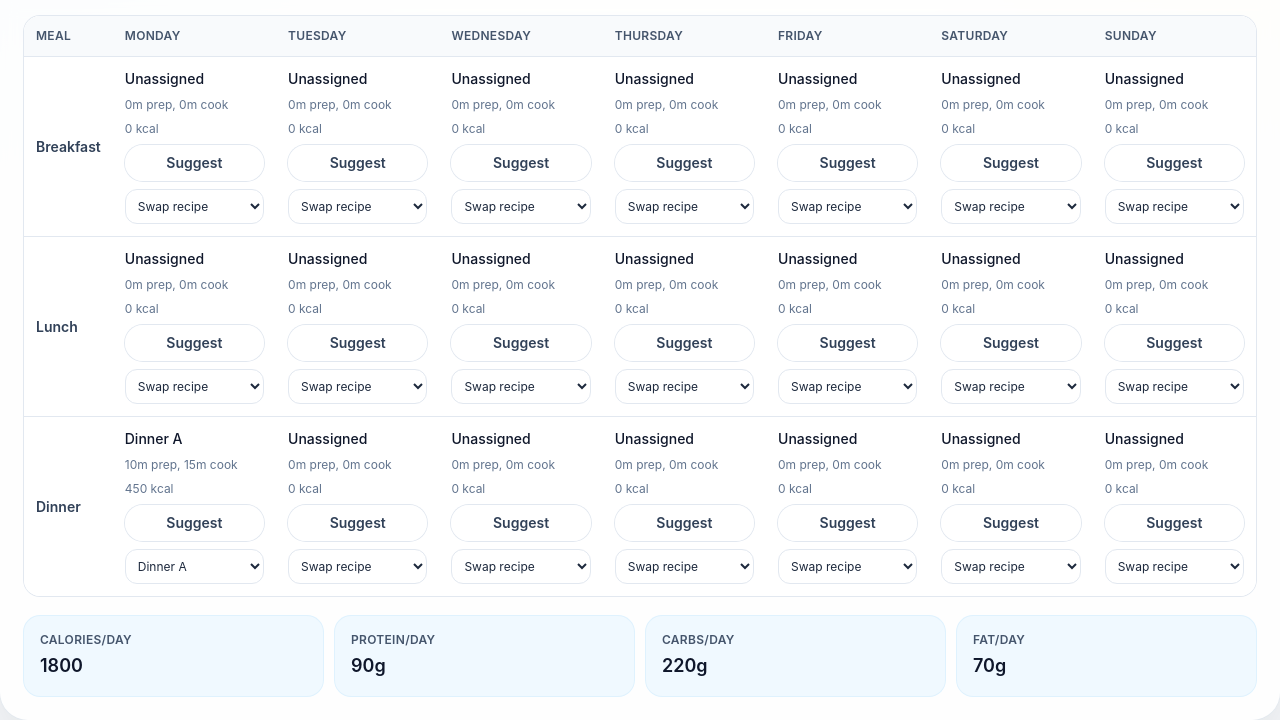
MealPlansPage › loads swap suggestions and swaps a slot
(page scrolled)
Click the button with aria-label "Monday dinner suggest".
click(194, 523)  # box [125,505,264,541]
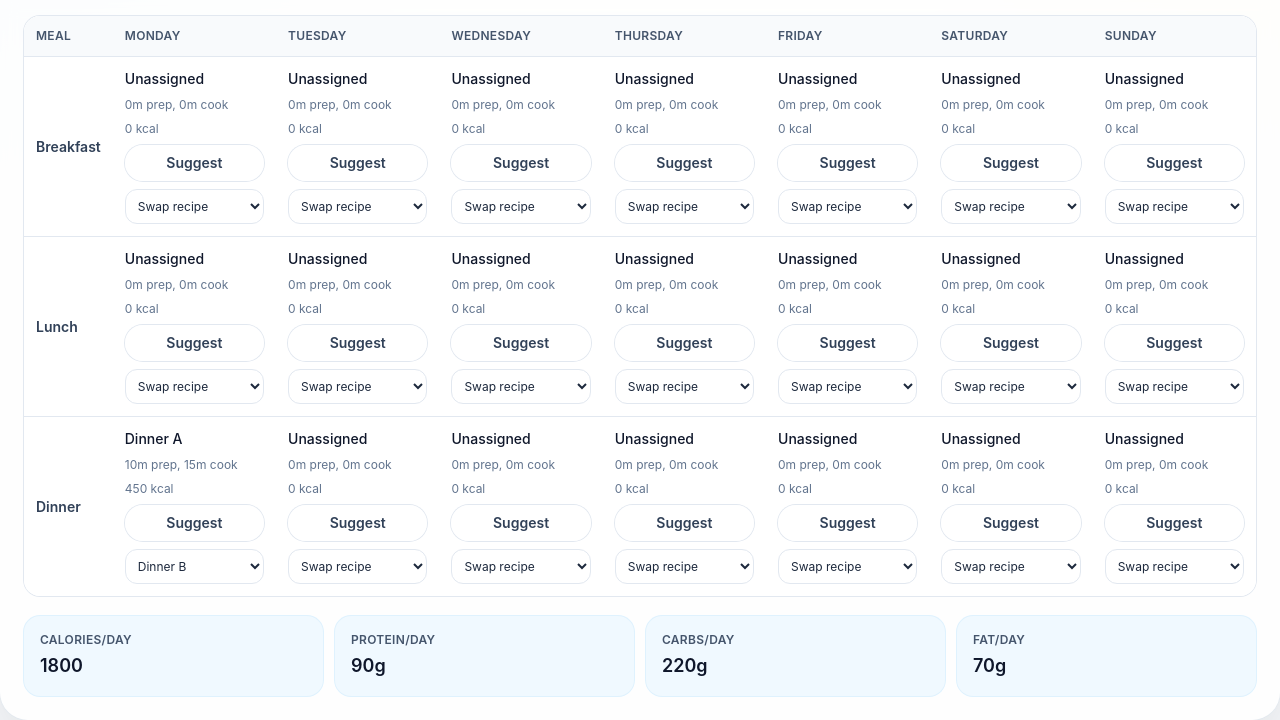
Select "Dinner B" in the dropdown named "Monday dinner swap" at [194, 566], box [125,549,264,584]
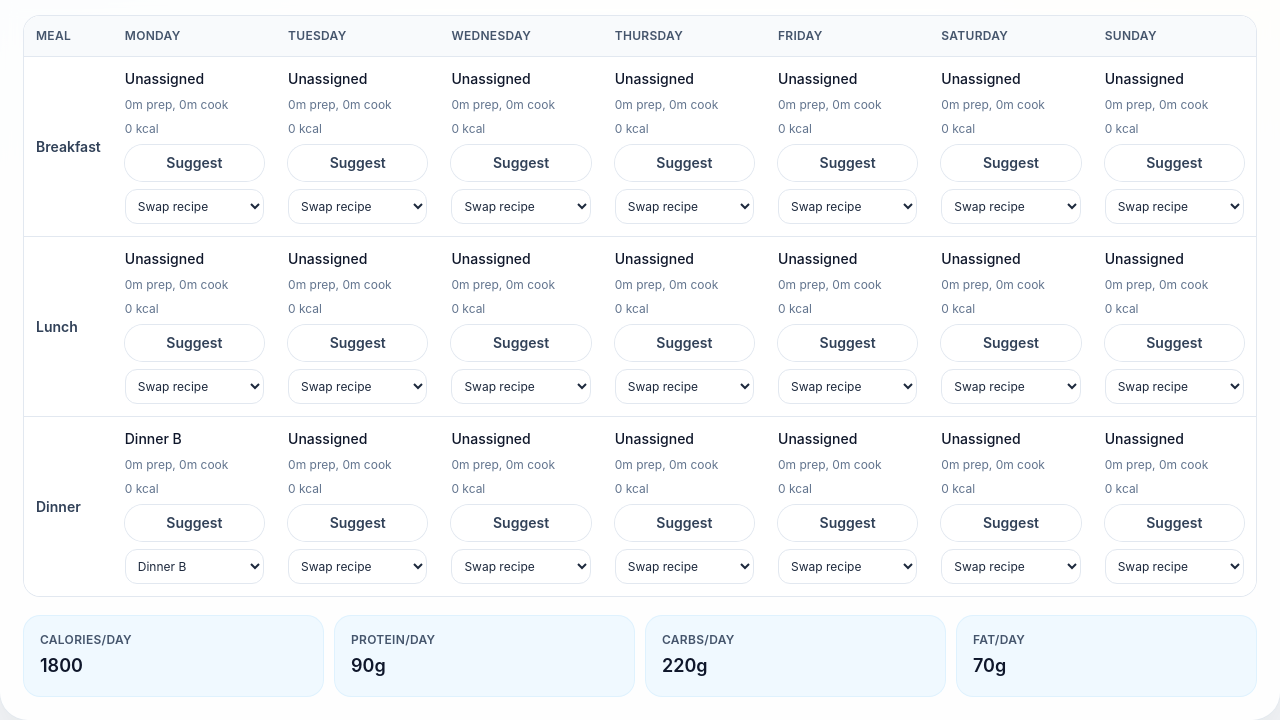
Check: the text "Dinner B" is shown, box [125,430,182,447]
